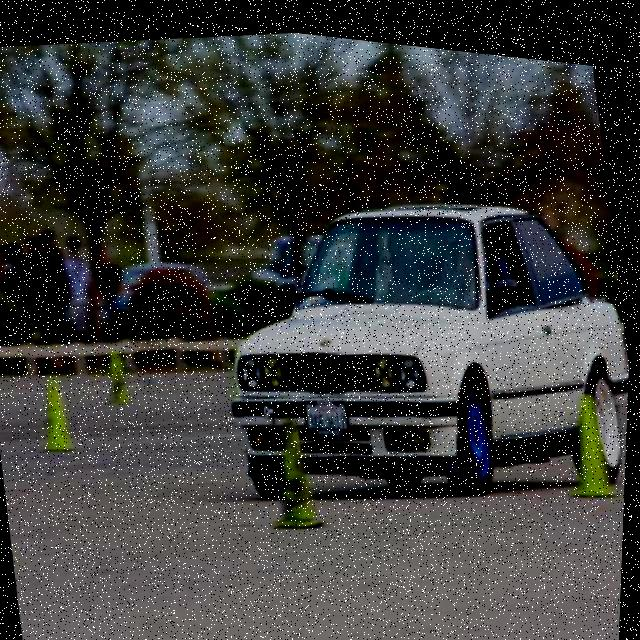license_plate: (307, 391, 354, 432)
